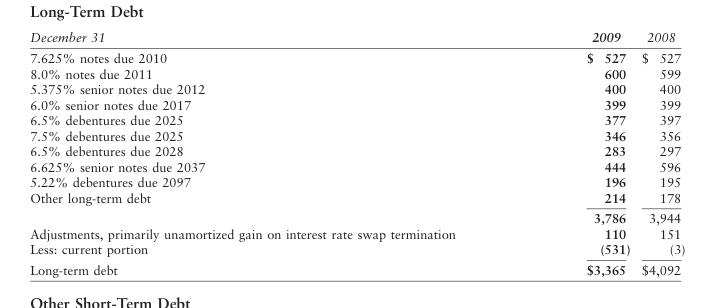table: (29, 29, 684, 276)
table column: (29, 29, 520, 276), (520, 29, 635, 276), (635, 29, 684, 276)
table column header: (29, 29, 684, 47)
table row: (29, 29, 684, 47), (29, 47, 684, 65), (29, 189, 684, 207), (29, 207, 684, 225), (29, 240, 684, 258), (29, 258, 684, 276), (29, 80, 684, 96), (29, 111, 684, 127), (29, 142, 684, 158), (29, 173, 684, 189), (29, 65, 684, 80), (29, 96, 684, 111), (29, 127, 684, 142), (29, 158, 684, 173), (29, 225, 684, 240)
